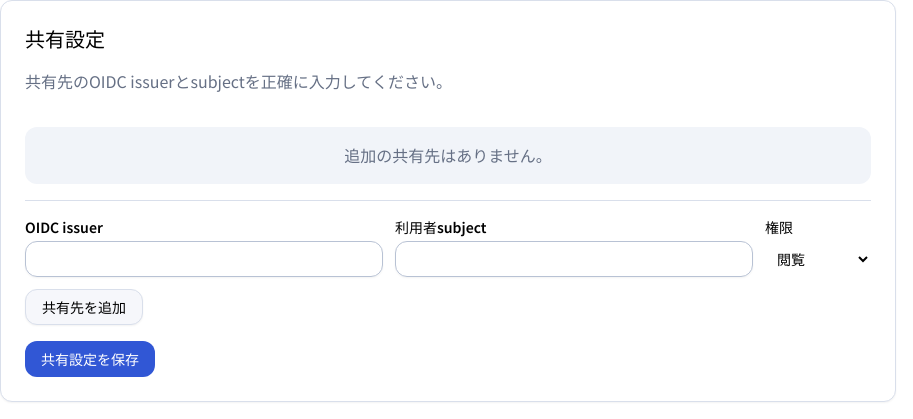
Test case: issuer、subject、権限を指定して共有設定を保存する
Type "https://id.example.test" into the field labelled "OIDC issuer".
click(204, 259); type("https://id.example.test")  # box [25, 241, 383, 277]
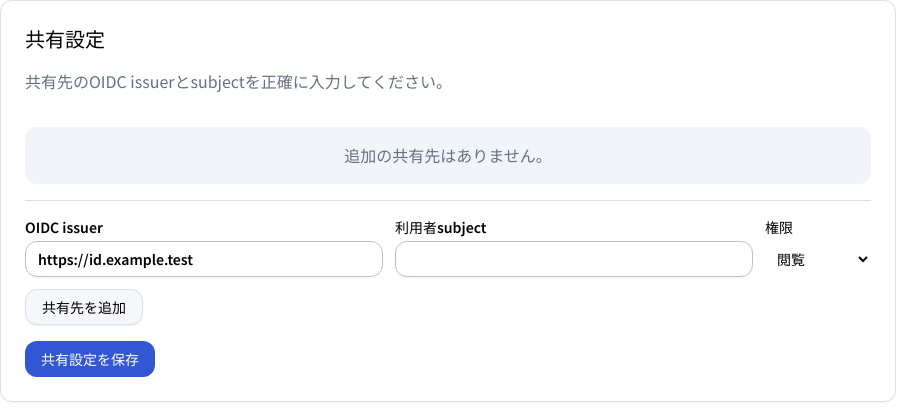
Type "reader-subject" into the field labelled "利用者subject".
click(574, 259); type("reader-subject")  # box [395, 241, 753, 277]
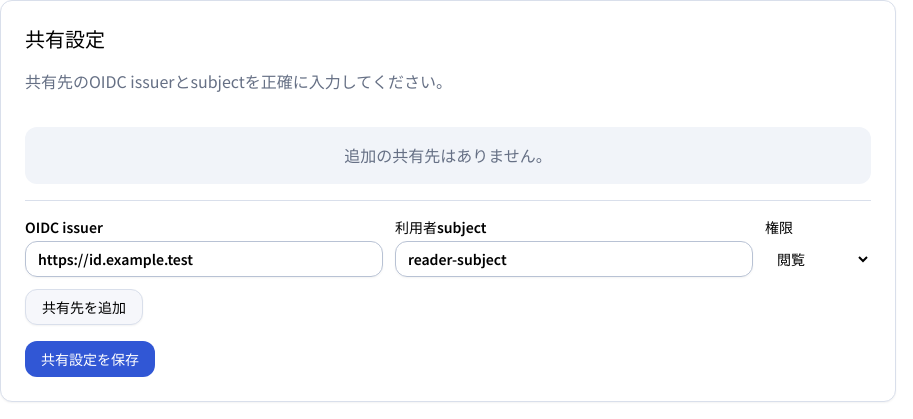
Select "閲覧・編集" in the dropdown labelled "権限" at (818, 259), box [765, 241, 871, 277]
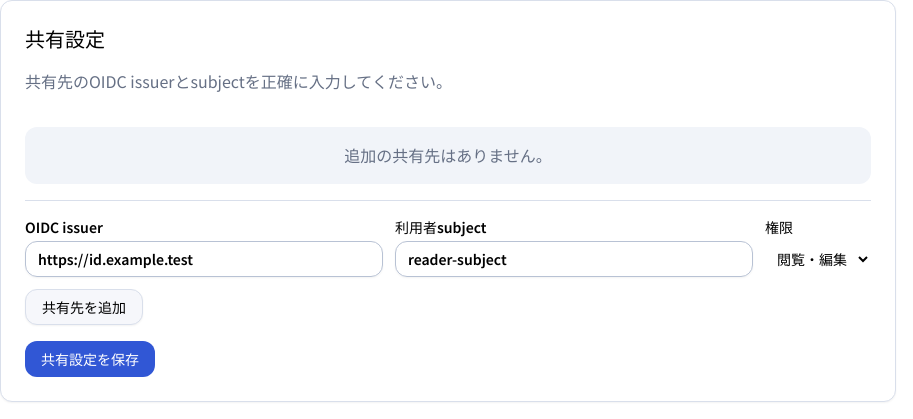
Click the button "共有先を追加".
click(84, 307)  # box [25, 289, 143, 325]
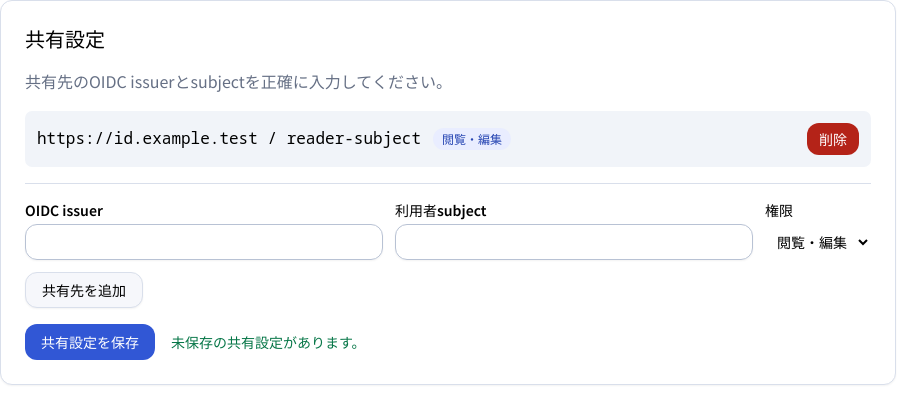
Click the button "共有設定を保存".
click(90, 342)  # box [25, 324, 155, 360]
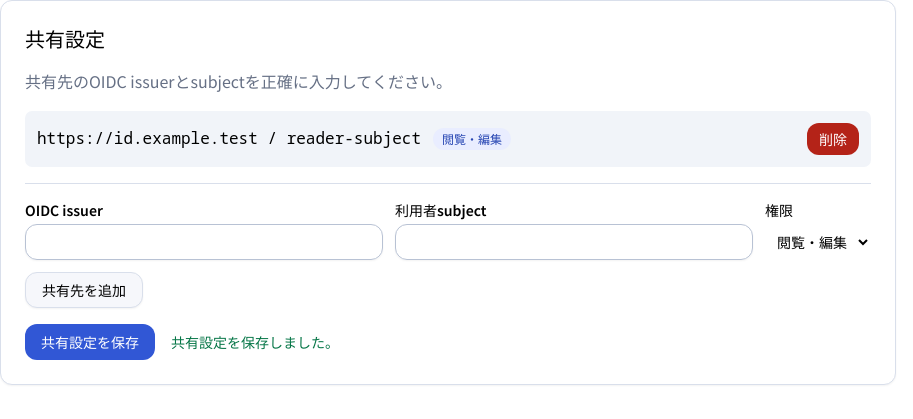
Result: the text "共有設定を保存しました。" is shown at [171, 332, 339, 352]
